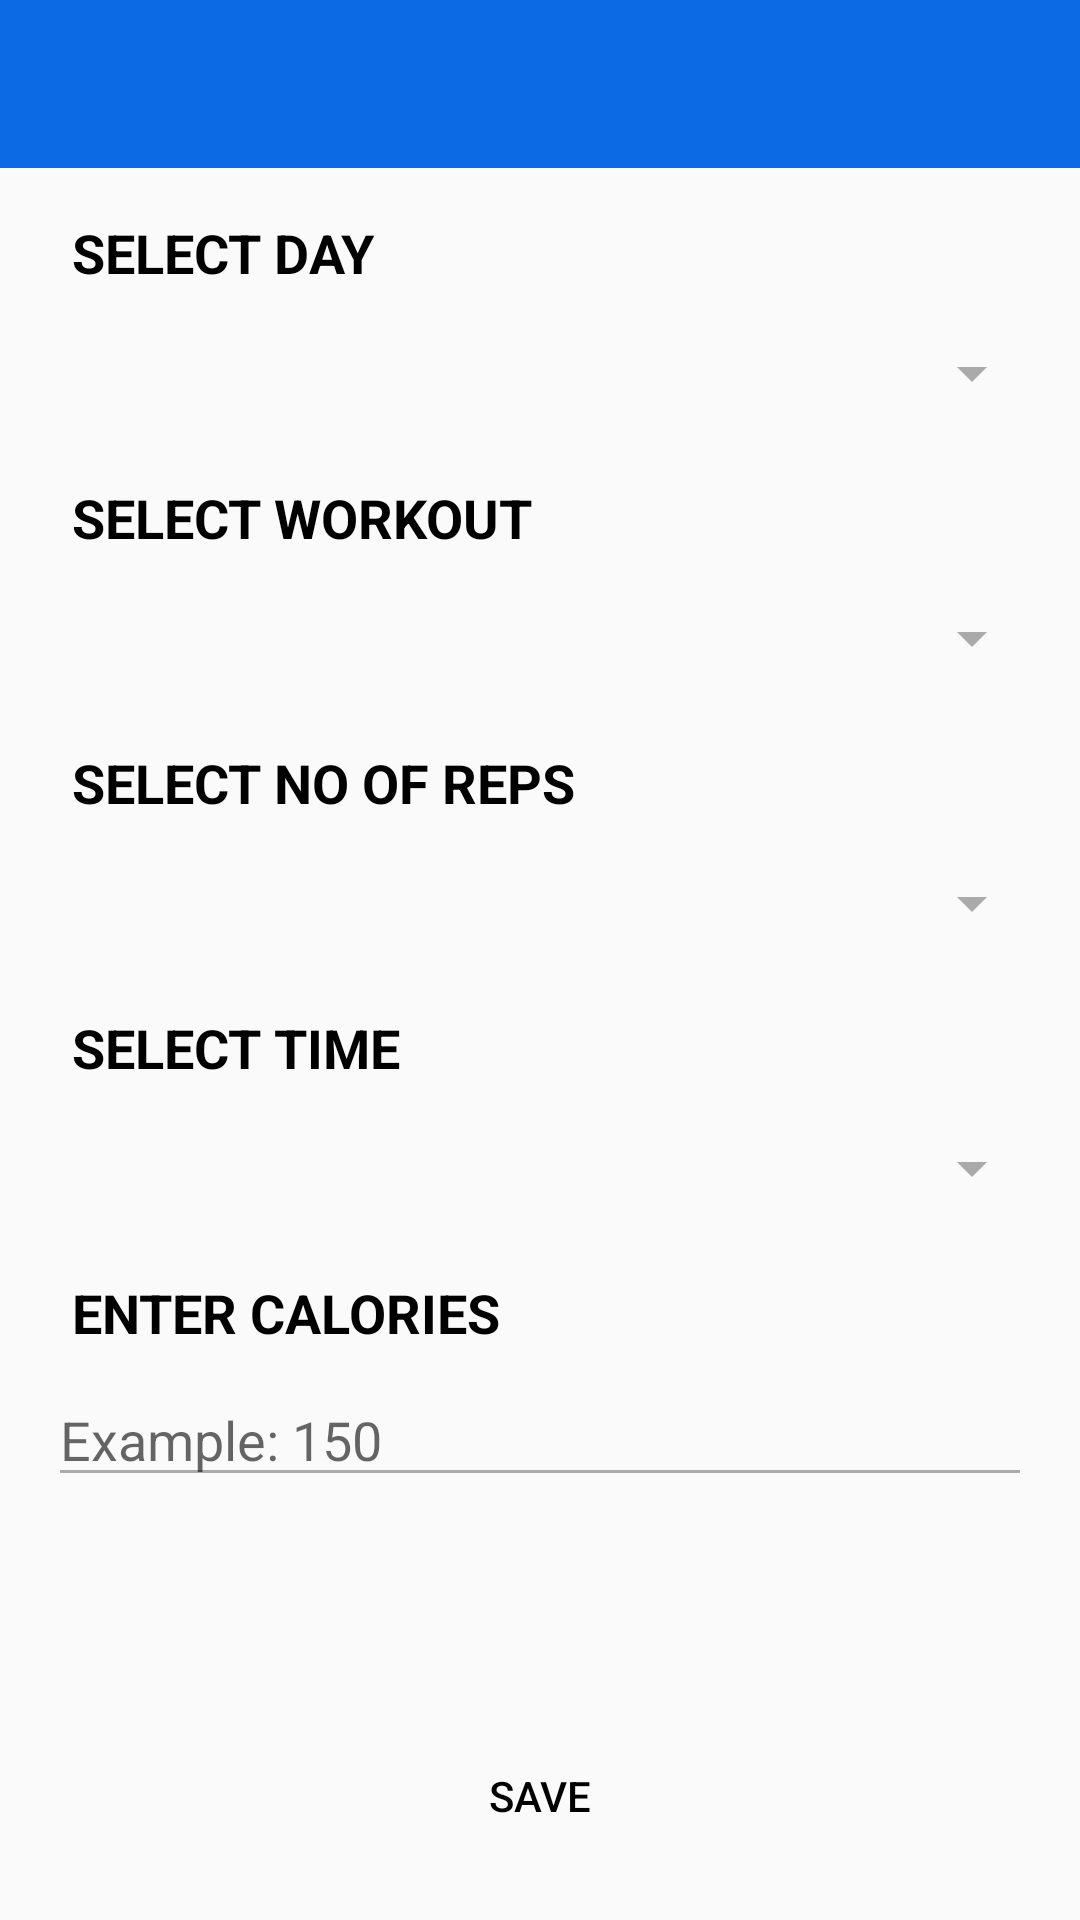

Named icons in this screenshot (1080w x 1920h) and their centers, point (x, y):
arrow drop down: point (972, 374), point (972, 639), point (972, 904), point (972, 1169)
